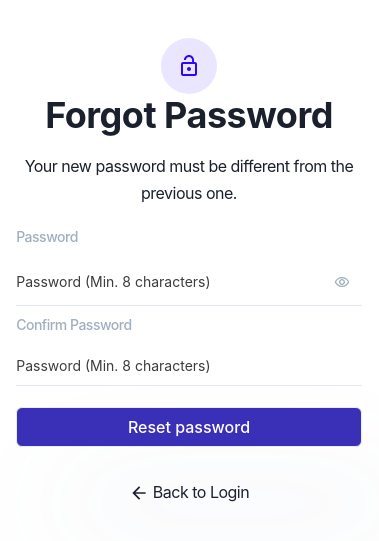
Test: SetPassword Page › should show error messages for invalid input
// Enter invalid password and confirm password (less than 8 characters)
In the password field named "password": (189, 282) [16, 258, 362, 306], type "123"
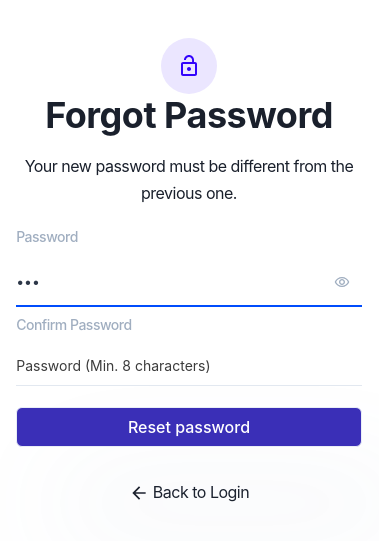
In the password field named "confirmPassword": (189, 366) [16, 346, 362, 386], type "123fdf"
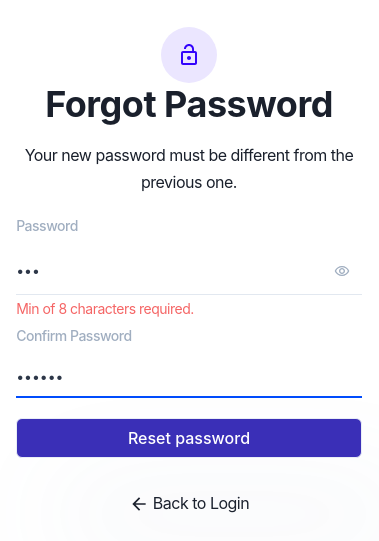
// Click on the "Reset password" button
Click the submit button: (189, 438) [16, 418, 362, 458]
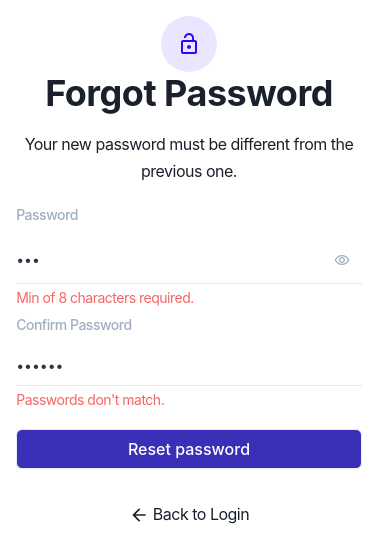
Check: the text "Min of 8 characters required" is shown, box [16, 289, 190, 306]
Check: the text "Passwords don't match" is shown, box [16, 391, 160, 408]
